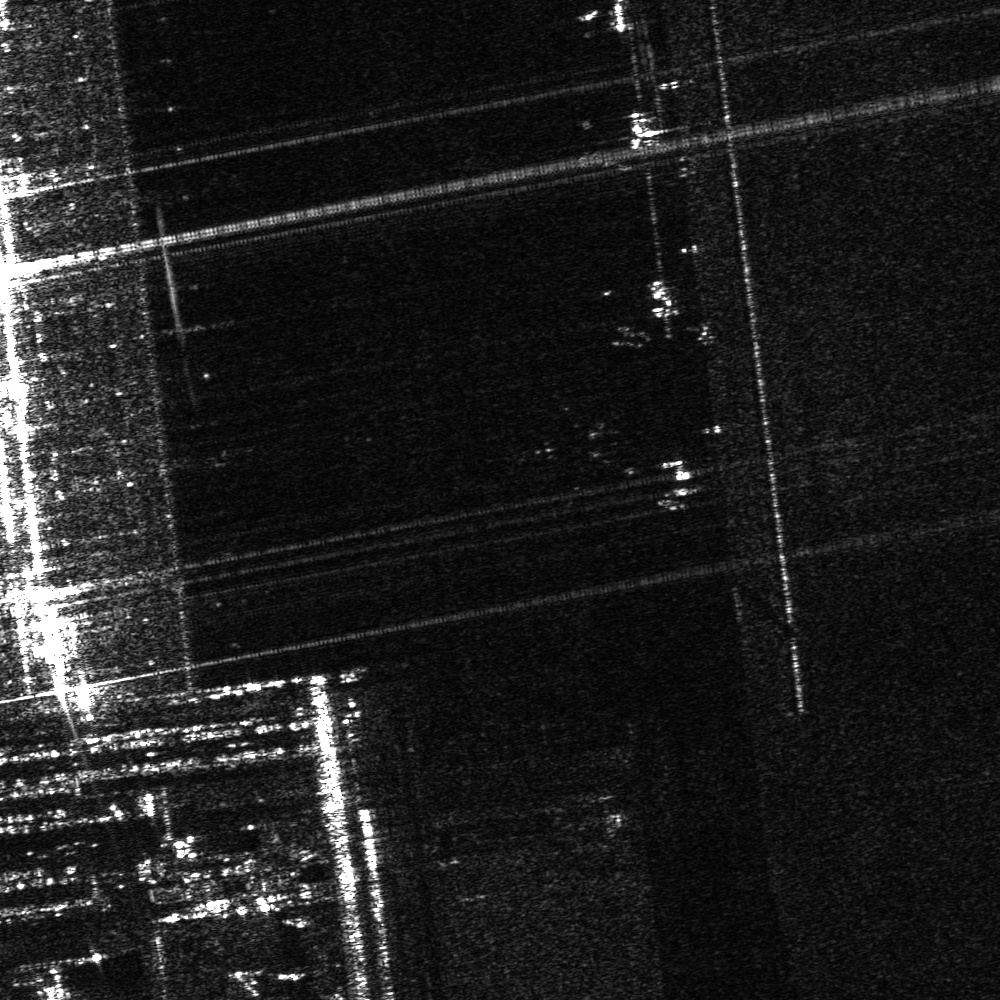Boeing787: (507, 389, 634, 511)
